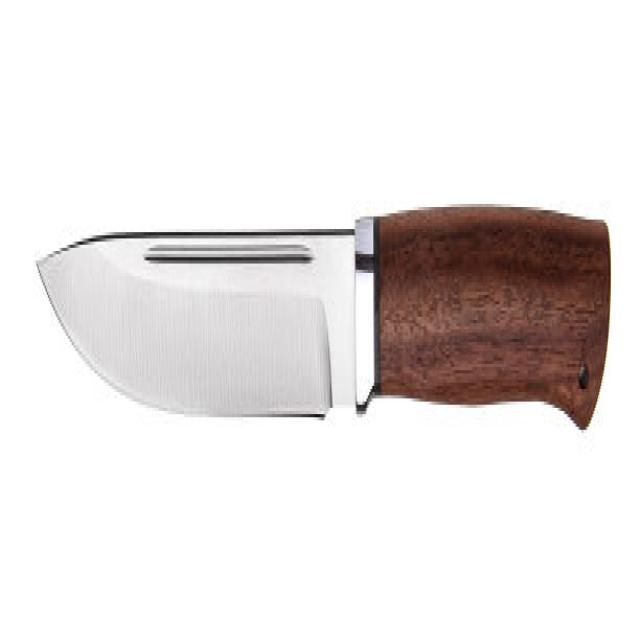knife: (33, 194, 617, 449)
